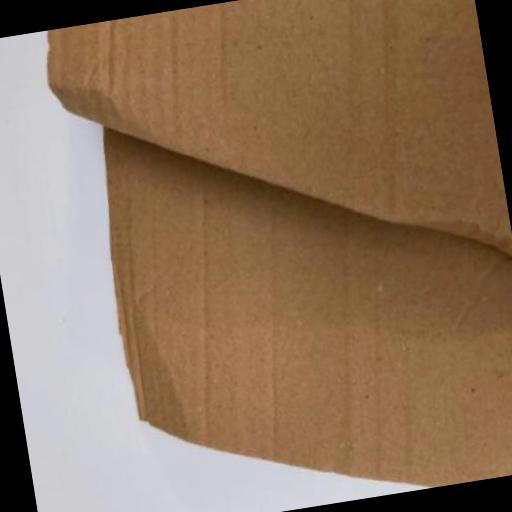cardboard: (85, 67, 512, 512), (39, 0, 512, 332)
